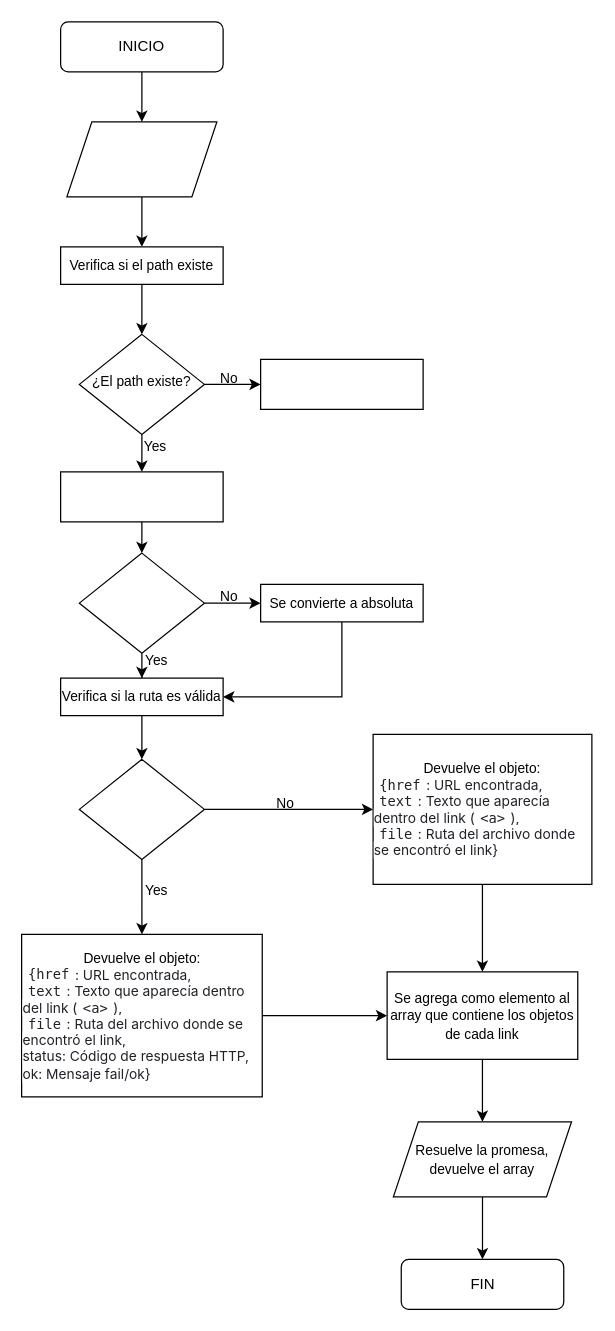
Image size: 615x1331. Some labels were removed from this diagram. The shapes that lost their labels are listed below. From the top down, each one's centre as x and y in pixels, then its label:
point 141,159: Se ejecuta función mdLinks
point 341,383: Se rechaza la promesa .catch(error)
point 141,496: Verifica si la ruta es absoluta/relativa
point 141,602: ¿La ruta es absoluta?
point 141,808: ¿La ruta es válida?
